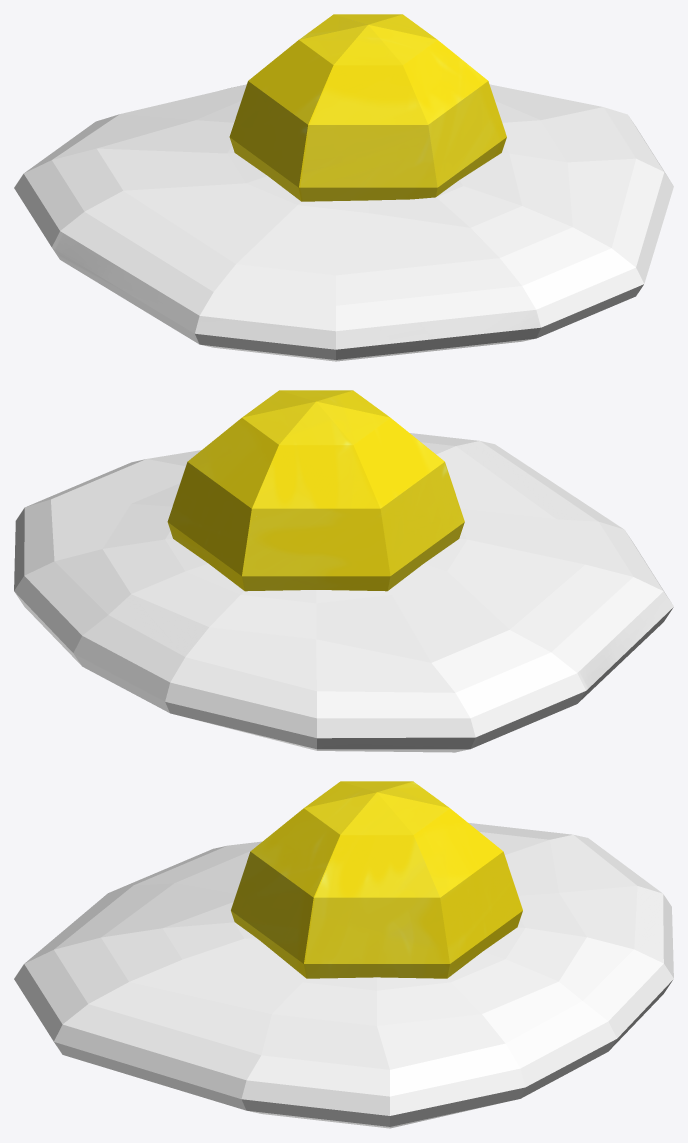
Rendered from Huevo.fbx.
The picture shows the model from 3 angles, top to bottom: view 1: azimuth 30°, elevation 25°; view 2: azimuth 150°, elevation 25°; view 3: azimuth 270°, elevation 25°; orthographic projection. The views are drawn at different scales.
Parts seen in each view (by area): view 1: Clara, Llema; view 2: Clara, Llema; view 3: Clara, Llema.
Boxes of the visible parts, x1,y1,x2,y2 form: Clara: (14, 84, 673, 361); Llema: (229, 14, 506, 201); Clara: (14, 433, 673, 752); Llema: (167, 390, 464, 591); Clara: (14, 822, 673, 1128); Llema: (231, 781, 522, 978).
Bounding box in the file's own units: 465 × 185 × 452.
2 materials, 2 textured.
